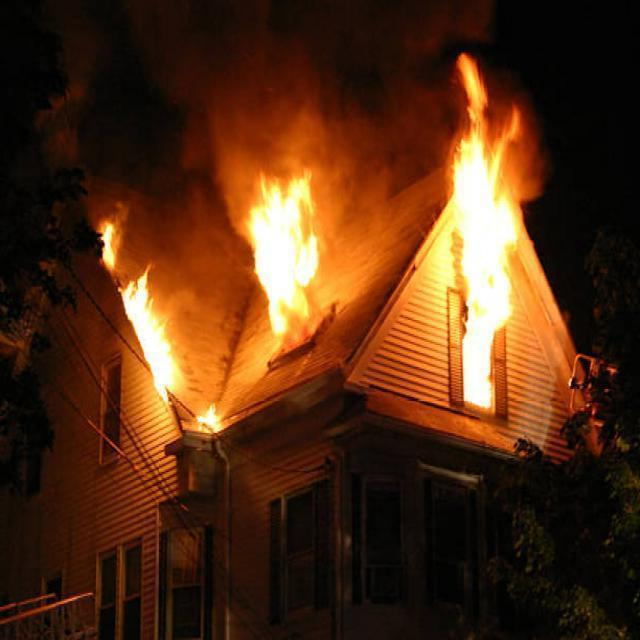Fire: (433, 82, 547, 408), (227, 173, 337, 347), (106, 268, 190, 402)
Smoke: (58, 23, 428, 170)
